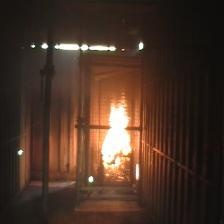fire: (96, 90, 129, 178)
